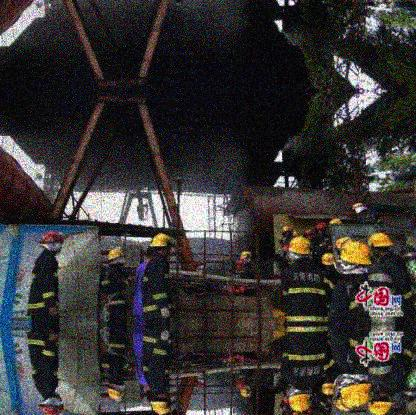helmet: (335, 241, 374, 274), (335, 373, 372, 407), (104, 245, 137, 269), (367, 231, 395, 258), (288, 388, 314, 414), (368, 391, 395, 414), (150, 231, 173, 256), (287, 235, 312, 258), (39, 231, 65, 251), (39, 395, 65, 415), (151, 393, 174, 414), (107, 383, 127, 401), (352, 202, 367, 215), (315, 222, 328, 236), (240, 386, 254, 398), (303, 228, 316, 240), (241, 250, 255, 261), (282, 225, 294, 237)
